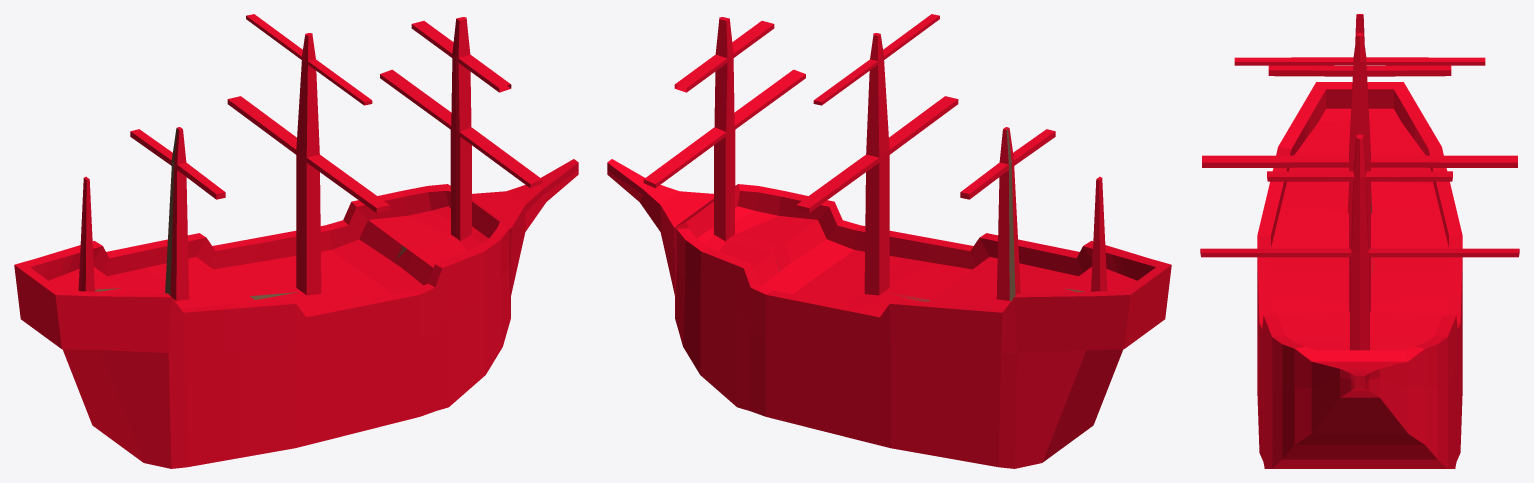
The model's file is galleon_illegal.glb.
The picture shows the model from 3 angles, left to right: view 1: azimuth 30°, elevation 25°; view 2: azimuth 150°, elevation 25°; view 3: azimuth 270°, elevation 25°; orthographic projection. The views are drawn at different scales.
Visible parts, largest first — view 1: Plane, Plane.001; view 2: Plane, Plane.001; view 3: Plane.
Part boxes in pixels (x1,y1,x2,y2): Plane: (14, 14, 578, 468); Plane.001: (95, 128, 406, 299); Plane: (607, 14, 1171, 468); Plane.001: (777, 128, 1084, 301); Plane: (1200, 14, 1519, 468).
Size of the model in its own units: 11.64 by 7.46 by 5.6.
